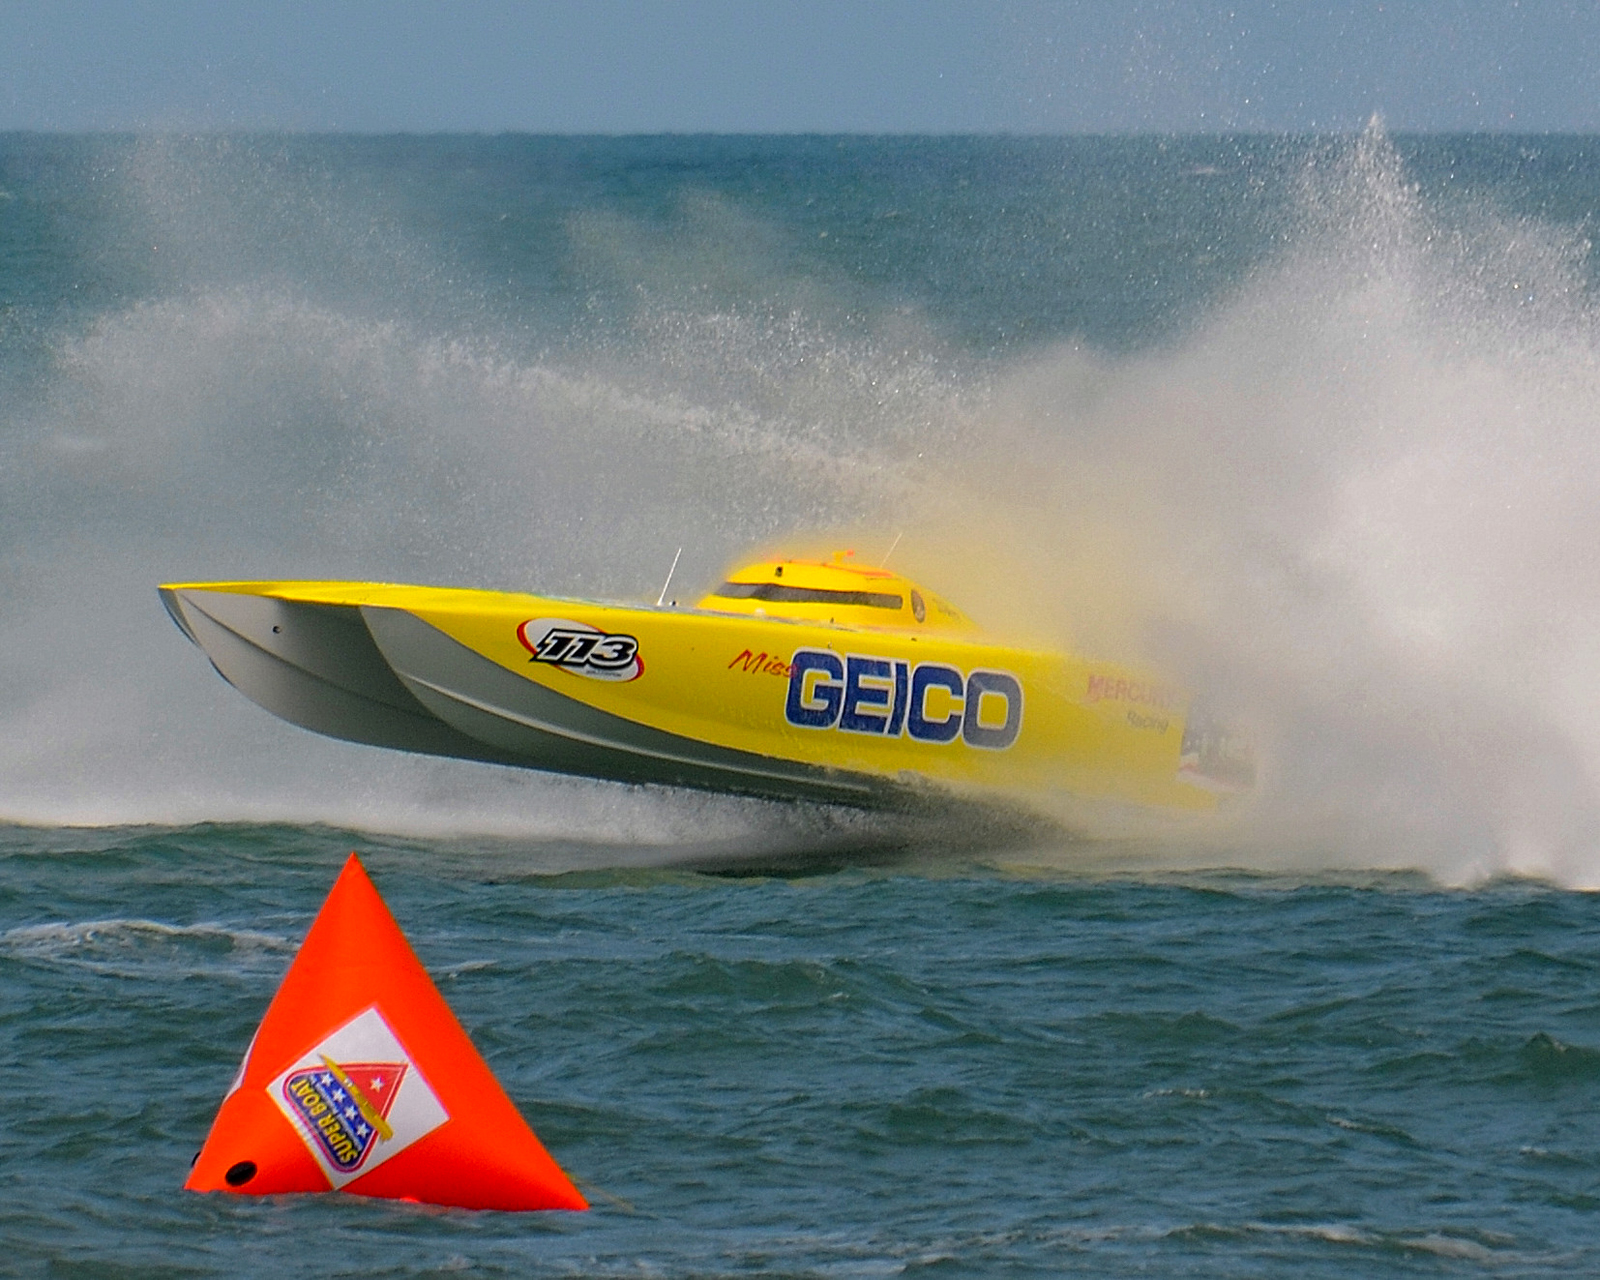geico: (778, 639, 1033, 754)
